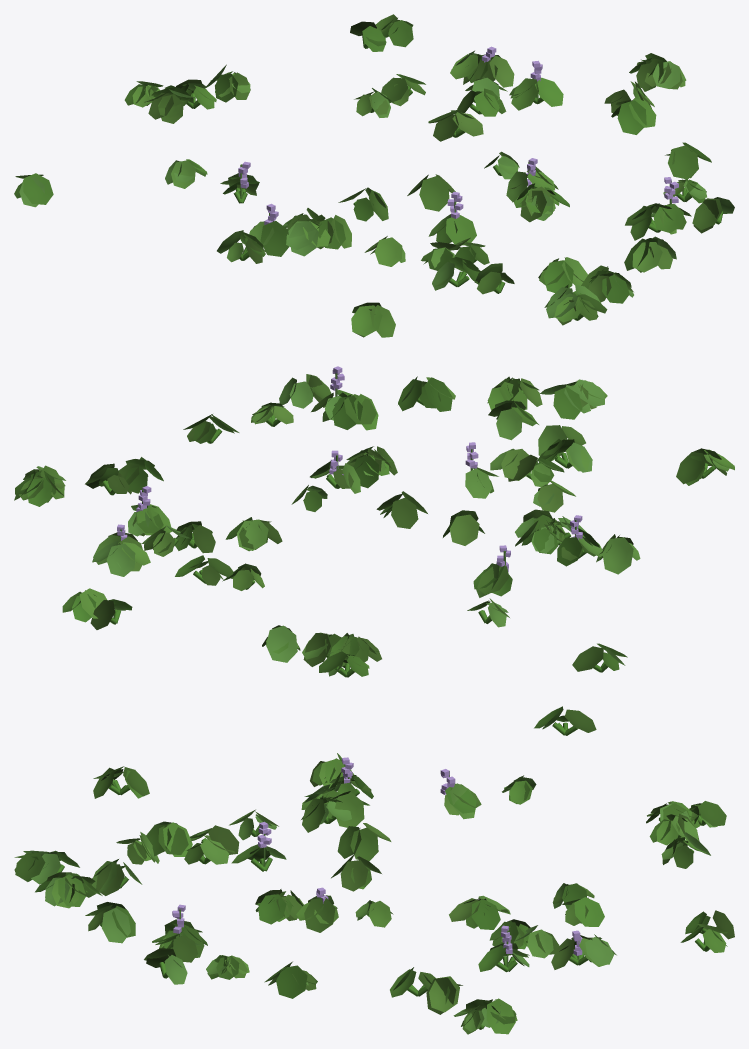
Rendered from hyacinth_1.glb.
3 renders of one model, top to bottom at view 1: azimuth 30°, elevation 25°; view 2: azimuth 150°, elevation 25°; view 3: azimuth 270°, elevation 25°, orthographic. The views are drawn at different scales.
Visible parts, largest first — view 1: hyacinth_1; view 2: hyacinth_1; view 3: hyacinth_1.
Part boxes in pixels (left/top/right/bottom): hyacinth_1: left=14, top=14, right=734, bottom=337; hyacinth_1: left=14, top=366, right=734, bottom=677; hyacinth_1: left=14, top=706, right=734, bottom=1034.
Size of the model in its own units: 5.12 by 0.4098 by 5.04.
